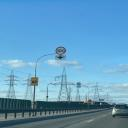speed_limit_100: (52, 45, 68, 56)
